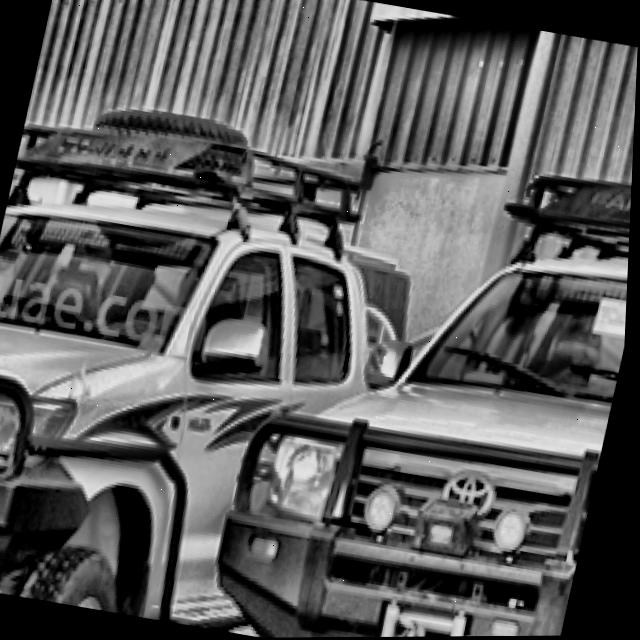light_vehicle: (198, 105, 636, 639), (0, 67, 304, 626)
